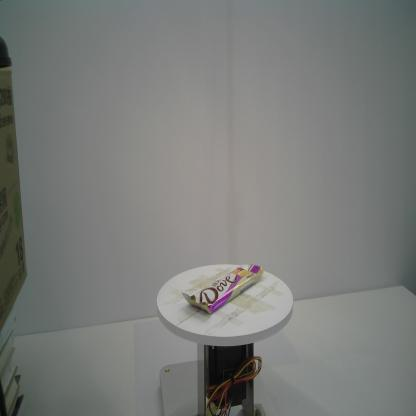Chocolate: (181, 263, 265, 315)
